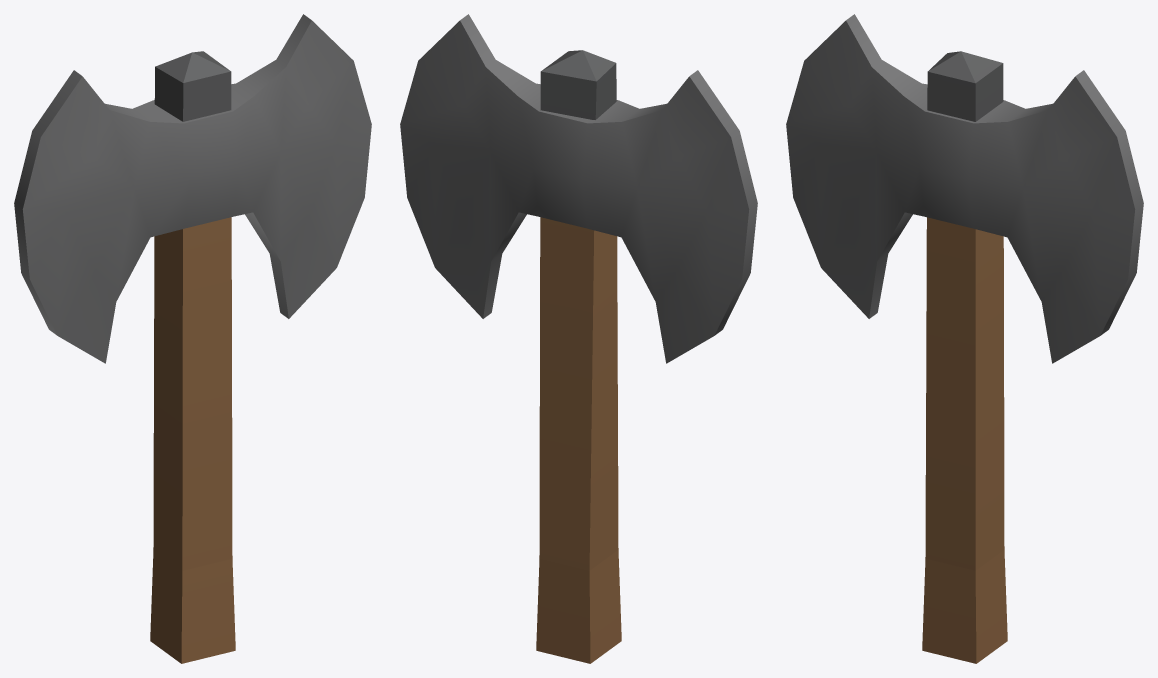
3 renders of one model, left to right at view 1: azimuth 30°, elevation 25°; view 2: azimuth 150°, elevation 25°; view 3: azimuth 330°, elevation 25°, orthographic.
Visible parts, largest first — view 1: Ax_D; view 2: Ax_D; view 3: Ax_D.
Part boxes in pixels (bbox=[...]): Ax_D: bbox=[14, 14, 371, 663]; Ax_D: bbox=[400, 14, 757, 663]; Ax_D: bbox=[786, 14, 1143, 663].
Size of the model in its own units: 45.56 by 74.92 by 9.57.
